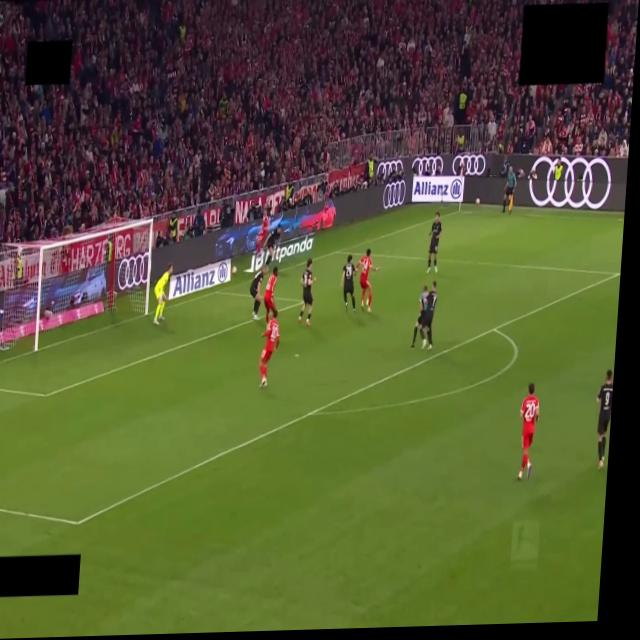ball: (366, 299, 369, 306)
player: (518, 383, 539, 479), (597, 370, 612, 468), (260, 310, 279, 387), (356, 250, 378, 312), (154, 264, 173, 324), (421, 282, 437, 349), (299, 258, 314, 325), (250, 265, 268, 319), (262, 266, 279, 323), (427, 213, 441, 273), (341, 255, 355, 311), (255, 206, 271, 254), (266, 224, 281, 265)
referee: (411, 286, 427, 347)
